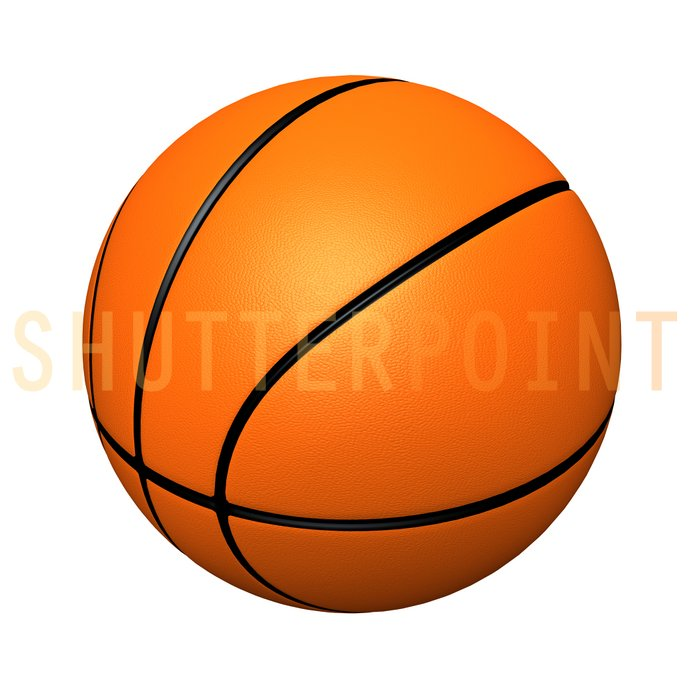basketball: (82, 72, 623, 614)
